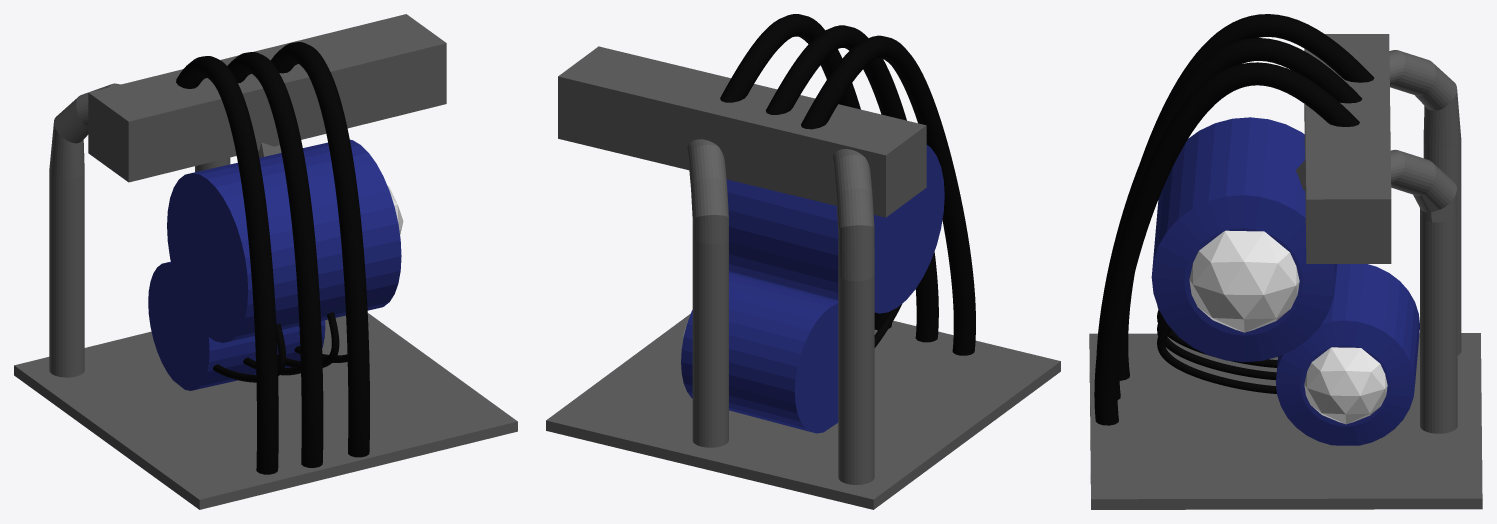
Rendered from PowerGenlevel6.fbx.
The picture shows the model from 3 angles, left to right: view 1: azimuth 30°, elevation 25°; view 2: azimuth 150°, elevation 25°; view 3: azimuth 270°, elevation 25°; orthographic projection. The views are drawn at different scales.
Visible parts, largest first — view 1: Cube, Cube.001, Cylinder.001, NurbsPath.002, NurbsPath, NurbsPath.001, Cylinder, NurbsPath.005, NurbsPath.003; view 2: Cube, Cube.001, Cylinder.001, Cylinder, NurbsPath.002, NurbsPath.001, NurbsPath; view 3: Cube, Cylinder.001, Cylinder, Cube.001, NurbsPath, NurbsPath.001, NurbsPath.002, NurbsPath.006, NurbsPath.003, NurbsPath.004.
Part boxes in pixels (x1,y1,x2,y2): Cube: (14, 83, 517, 509); Cube.001: (88, 14, 446, 182); Cylinder.001: (167, 139, 403, 342); NurbsPath.002: (176, 56, 278, 474); NurbsPath: (270, 42, 369, 457); NurbsPath.001: (227, 52, 323, 467); Cylinder: (148, 261, 325, 390); NurbsPath.005: (213, 323, 285, 382); NurbsPath.003: (277, 312, 339, 367); Cube: (546, 139, 1060, 509); Cube.001: (558, 46, 926, 217); Cylinder.001: (726, 145, 944, 313); Cylinder: (681, 272, 838, 433); NurbsPath.002: (801, 35, 975, 355); NurbsPath.001: (766, 25, 938, 342); NurbsPath: (720, 14, 891, 330); Cube: (1089, 50, 1482, 509); Cylinder.001: (1151, 117, 1337, 362); Cylinder: (1276, 264, 1419, 445); Cube.001: (1304, 34, 1391, 263); NurbsPath: (1094, 62, 1359, 425); NurbsPath.001: (1096, 38, 1362, 399); NurbsPath.002: (1119, 14, 1374, 380); NurbsPath.006: (1157, 324, 1276, 393); NurbsPath.003: (1157, 315, 1276, 380); NurbsPath.004: (1157, 309, 1277, 367).
Bounding box in the file's own units: 2.2 × 2.16 × 2.01.
